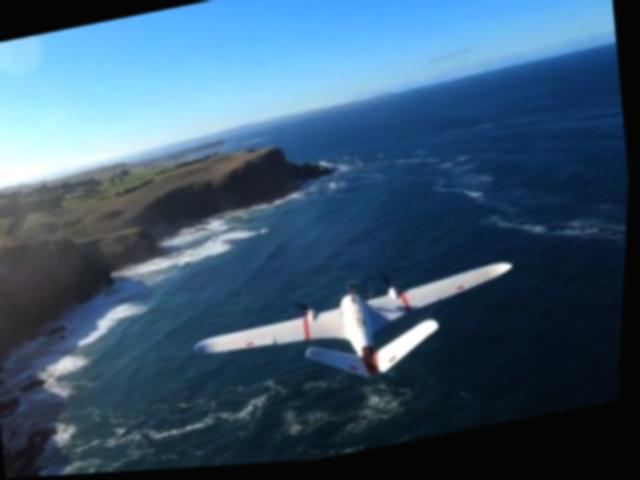uav: (188, 260, 531, 421)
